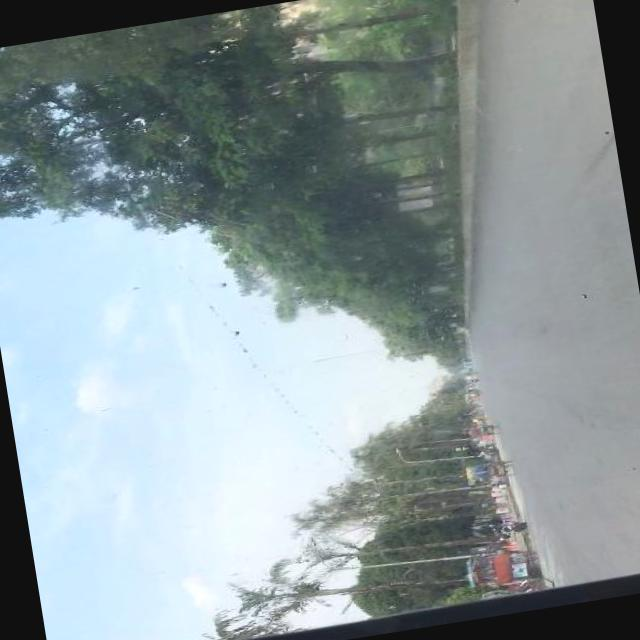motorcycle: (480, 575, 555, 601), (468, 458, 516, 484), (484, 518, 526, 542), (464, 422, 500, 440)
